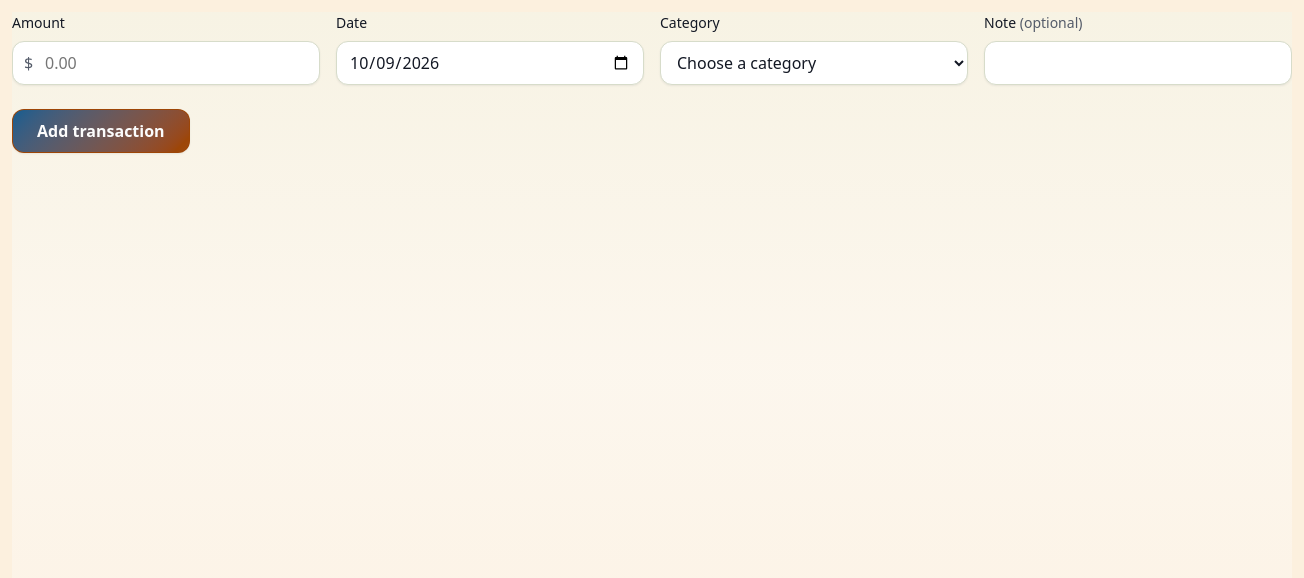
Test case: TransactionForm › shows an error next to each missing field and saves nothing
Clear the date field labelled "Date": (490,63) [336, 41, 644, 85]
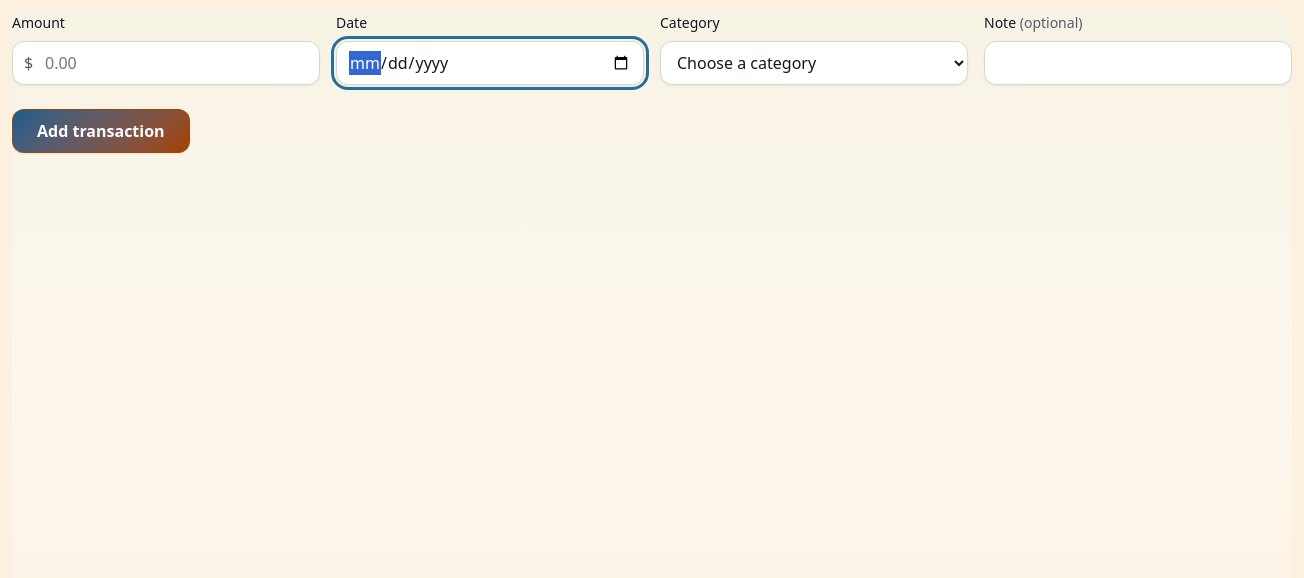
Click the button "Add transaction": (101,131) [12, 109, 190, 153]
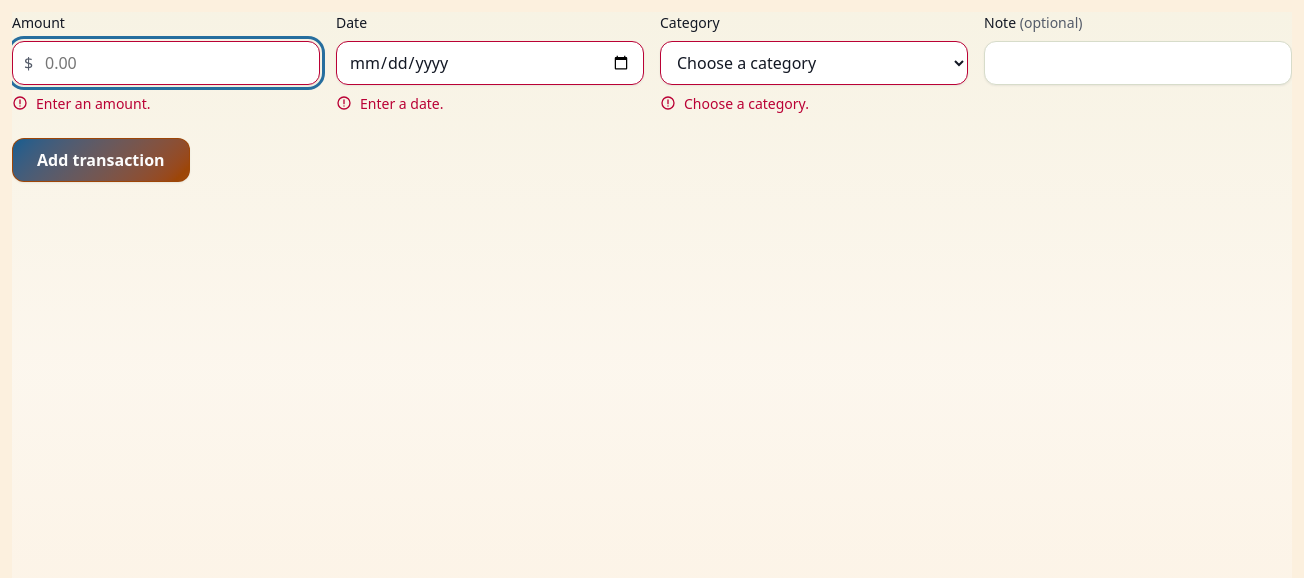
Now the number of messages is 3, box [12, 94, 150, 113]; [336, 94, 444, 113]; [660, 94, 809, 113]
